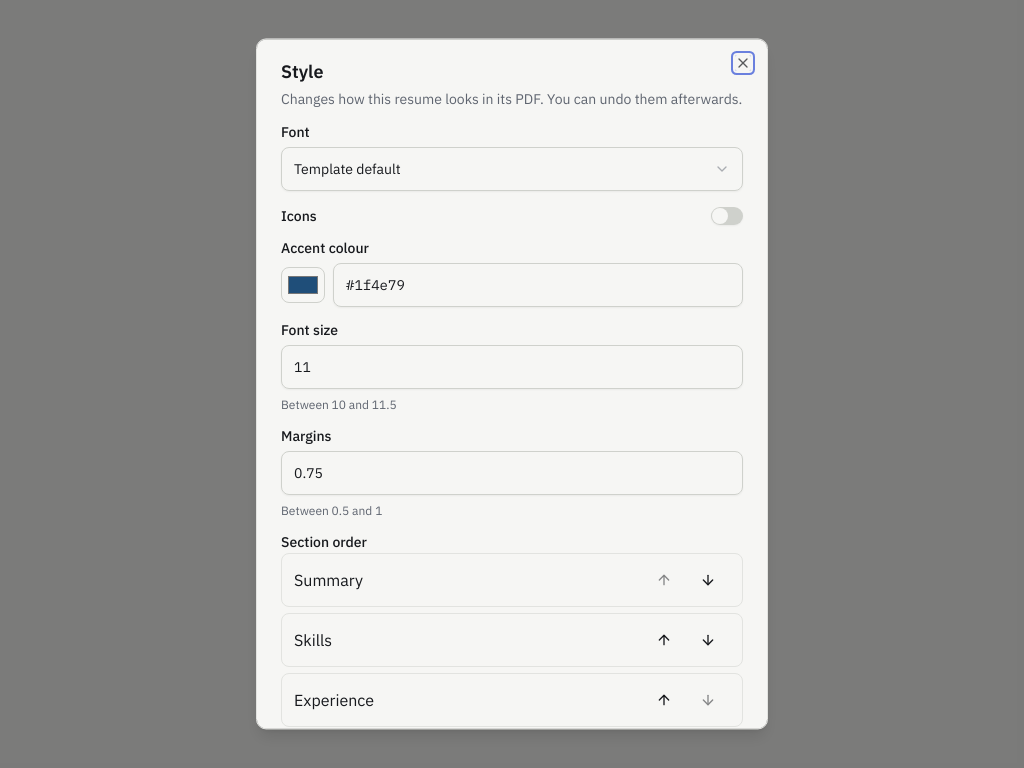
Test: keeps Apply disabled for a colour that is not #RRGGBB, and for a number out of range
Expected: the number field labelled "Font size" is shown, [281, 346, 743, 390]
Replace the text in the field named "Accent colour hex" with "#12" at (538, 286), box [333, 264, 743, 308]
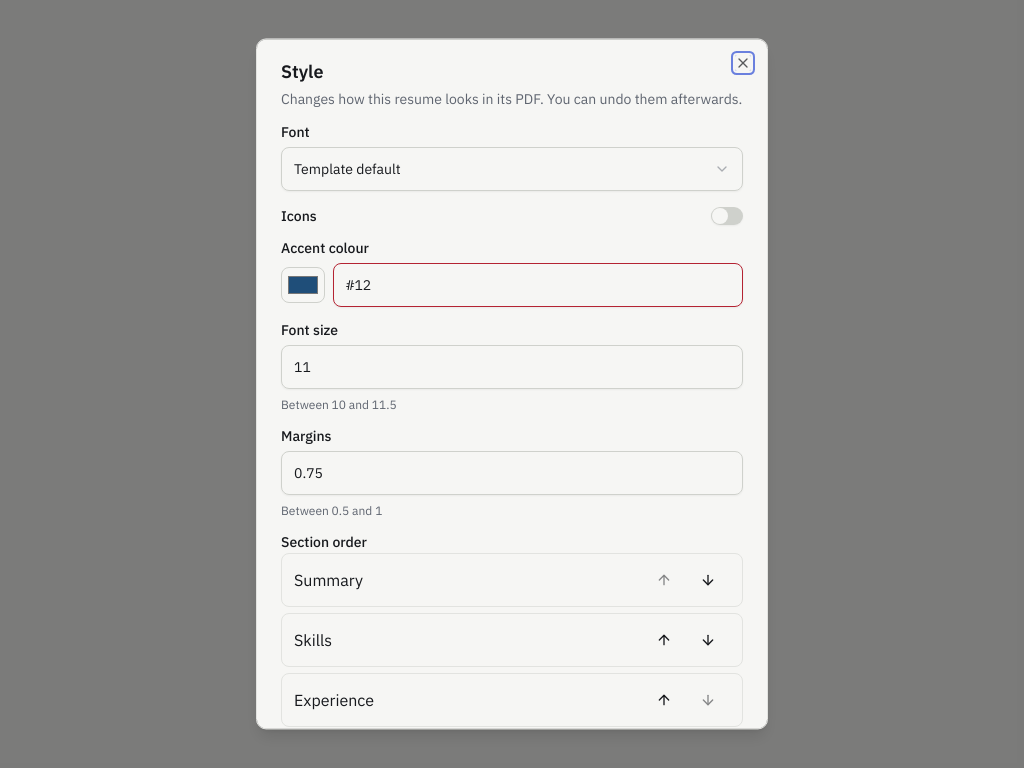
Replace the text in the field named "Accent colour hex" with "#123456" at (538, 286), box [333, 264, 743, 308]
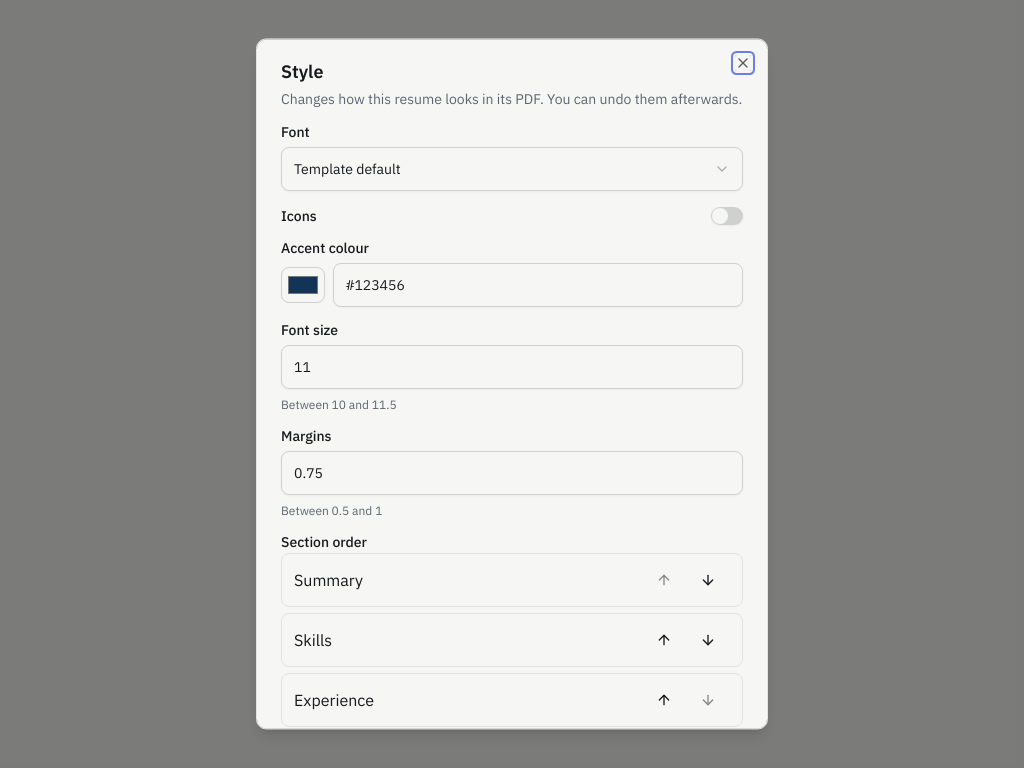
Replace the text in the number field labelled "Font size" with "12" at (512, 368), box [281, 346, 743, 390]
(page scrolled)
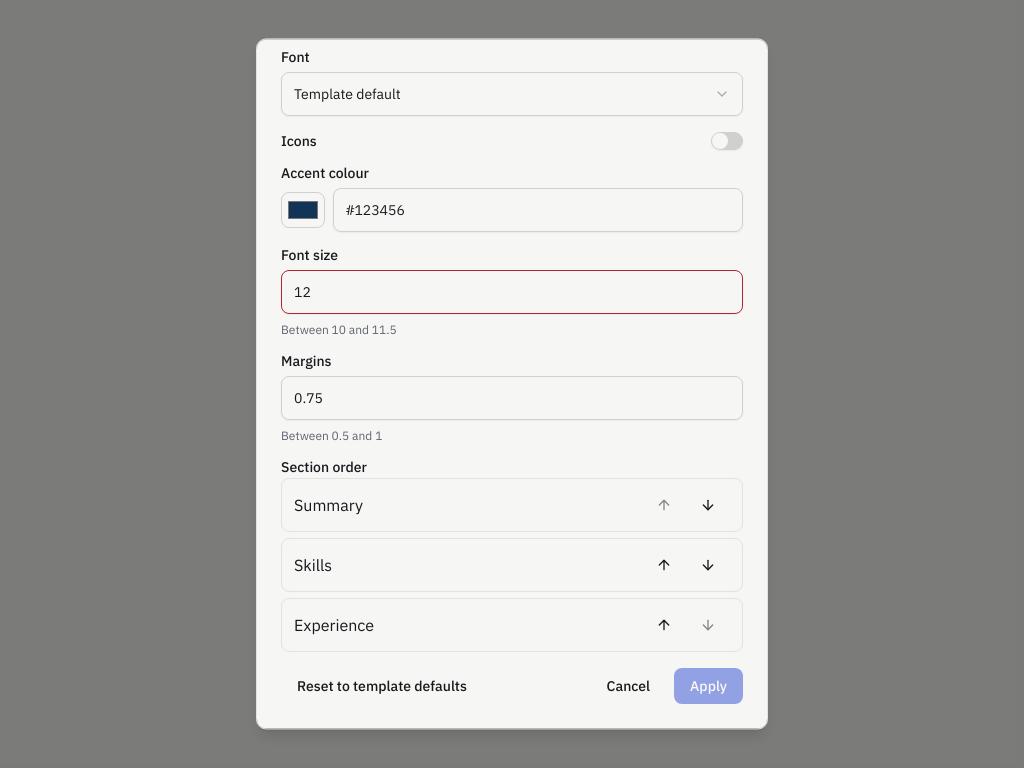
Result: the button "Apply" is disabled at [674, 669, 743, 705]
